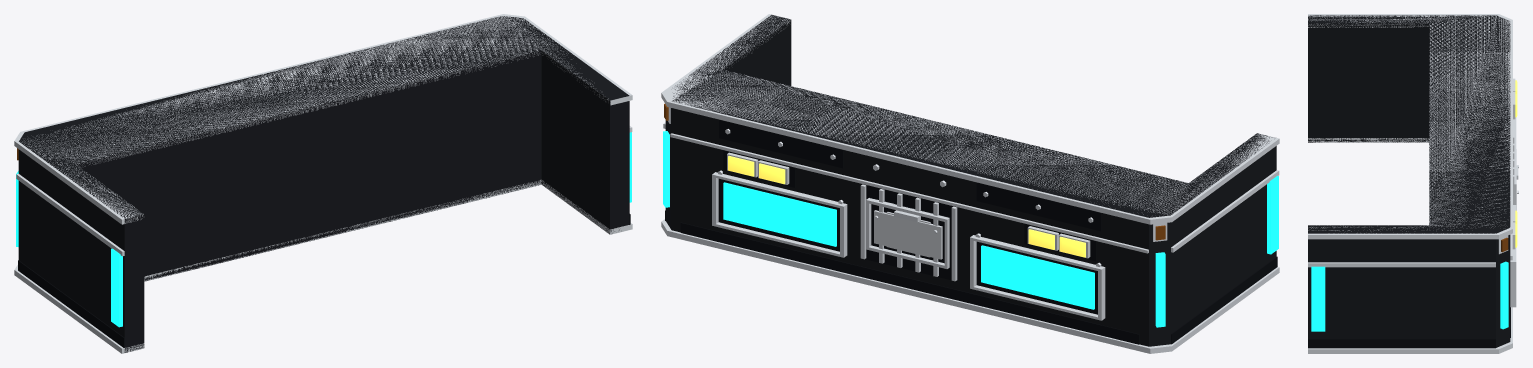
Rendered from fb_wrap_lamps.glb.
3 views of the same model, side by side, from view 1: azimuth 30°, elevation 25°; view 2: azimuth 150°, elevation 25°; view 3: azimuth 270°, elevation 25° (orthographic). The views are drawn at different scales.
Parts seen in each view (by area): view 1: fb_wrap_lamps_LMID_deco_body, fb_wrap_lamps_LTOP_deco_body, fb_wrap_lamps_TOP_chrome, fb_wrap_lamps_BOT_deco_body, fb_wrap_lamps_TOP_deco_body, fb_wrap_lamps_LBOT_deco_body, fb_wrap_lamps_BOT_chrome, fb_wrap_lamps_LMID_deco_neon, fb_wrap_lamps_BOT_deco_trim, fb_wrap_lamps_MID_chrome; view 2: fb_wrap_lamps_LTOP_deco_body, fb_wrap_lamps_LMID_deco_body, fb_wrap_lamps_TOP_chrome, fb_wrap_lamps_LMID_deco_neon, fb_wrap_lamps_MID_chrome, fb_wrap_lamps_TOP_deco_body, fb_wrap_lamps_BOT_deco_trim, fb_wrap_lamps_LMID_deco_trim, fb_wrap_lamps_TOP_deco_trim, fb_wrap_lamps_BOT_chrome, fb_wrap_lamps_BOT_deco_body, fb_wrap_lamps_CEN_deco_plate (+4 smaller); view 3: fb_wrap_lamps_LTOP_deco_body, fb_wrap_lamps_LMID_deco_body, fb_wrap_lamps_TOP_chrome, fb_wrap_lamps_BOT_deco_body, fb_wrap_lamps_TOP_deco_body, fb_wrap_lamps_MID_chrome, fb_wrap_lamps_BOT_deco_trim, fb_wrap_lamps_BOT_chrome, fb_wrap_lamps_LMID_deco_neon, fb_wrap_lamps_LBOT_deco_body, fb_wrap_lamps_MID_lamp_amber, fb_wrap_lamps_CEN_chrome.
Part boxes in pixels (x1,y1,x2,y2): fb_wrap_lamps_LMID_deco_body: (18,81,629,332); fb_wrap_lamps_LTOP_deco_body: (18,16,629,249); fb_wrap_lamps_TOP_chrome: (14,14,632,224); fb_wrap_lamps_BOT_deco_body: (18,164,629,348); fb_wrap_lamps_TOP_deco_body: (18,53,629,249); fb_wrap_lamps_LBOT_deco_body: (19,165,629,352); fb_wrap_lamps_BOT_chrome: (14,179,632,353); fb_wrap_lamps_LMID_deco_neon: (16,132,631,327); fb_wrap_lamps_BOT_deco_trim: (18,214,630,347); fb_wrap_lamps_MID_chrome: (16,126,632,256); fb_wrap_lamps_LTOP_deco_body: (665,14,1276,248); fb_wrap_lamps_LMID_deco_body: (665,51,1276,331); fb_wrap_lamps_TOP_chrome: (661,14,1279,241); fb_wrap_lamps_LMID_deco_neon: (663,131,1278,327); fb_wrap_lamps_MID_chrome: (663,122,1279,320); fb_wrap_lamps_TOP_deco_body: (667,23,1276,248); fb_wrap_lamps_BOT_deco_trim: (665,210,1277,344); fb_wrap_lamps_LMID_deco_trim: (718,150,1097,314); fb_wrap_lamps_TOP_deco_trim: (719,119,1101,231); fb_wrap_lamps_BOT_chrome: (661,219,1279,353); fb_wrap_lamps_BOT_deco_body: (665,207,1276,346); fb_wrap_lamps_CEN_deco_plate: (874,210,942,259); fb_wrap_lamps_LTOP_deco_body: (1308,15,1510,261); fb_wrap_lamps_LMID_deco_body: (1308,51,1510,334); fb_wrap_lamps_TOP_chrome: (1308,14,1512,254); fb_wrap_lamps_BOT_deco_body: (1308,124,1510,347); fb_wrap_lamps_TOP_deco_body: (1308,25,1510,260); fb_wrap_lamps_MID_chrome: (1308,78,1516,307); fb_wrap_lamps_BOT_deco_trim: (1308,307,1510,348); fb_wrap_lamps_BOT_chrome: (1308,138,1512,353); fb_wrap_lamps_LMID_deco_neon: (1311,261,1508,331); fb_wrap_lamps_LBOT_deco_body: (1308,124,1510,347); fb_wrap_lamps_MID_lamp_amber: (1515,80,1517,247); fb_wrap_lamps_CEN_chrome: (1514,149,1518,210).
Bounding box in the file's own units: 2.6 × 0.65 × 1.04.
